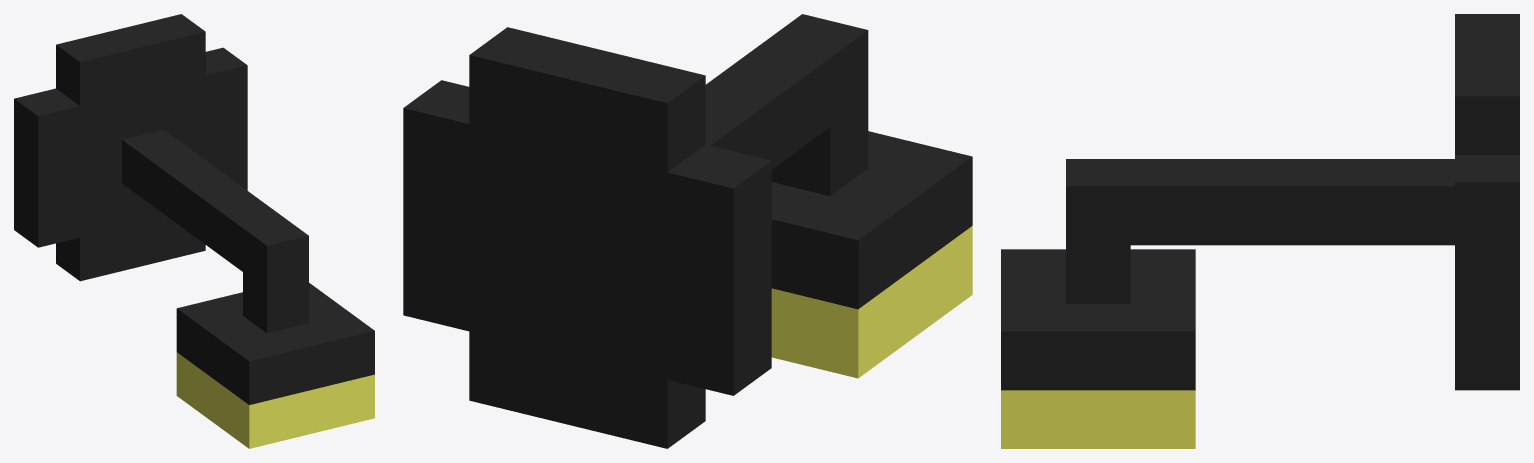
The model's file is lamp_wall_50.obj.
The picture shows the model from 3 angles, left to right: view 1: azimuth 30°, elevation 25°; view 2: azimuth 150°, elevation 25°; view 3: azimuth 270°, elevation 25°; orthographic projection. The views are drawn at different scales.
Bounding box in the file's own units: 0.5 × 0.6 × 0.8.
Materials: 1 (1 with a texture image).
